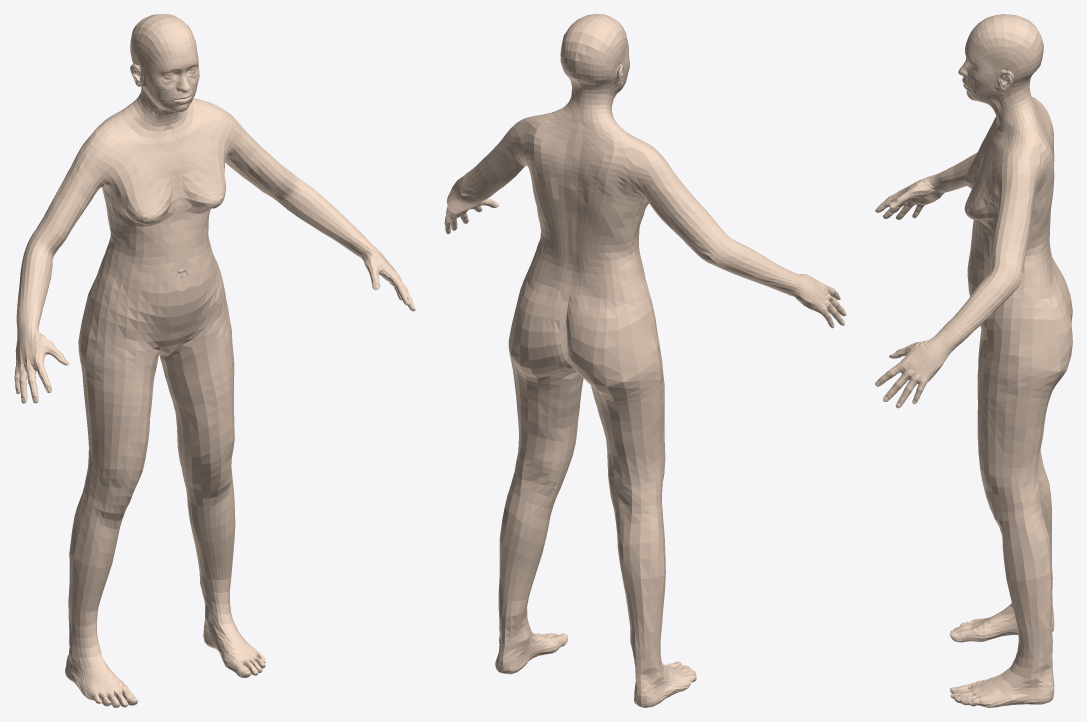
The model's file is female-older-heavy-medium.glb.
3 views of the same model, side by side, from view 1: azimuth 30°, elevation 25°; view 2: azimuth 150°, elevation 25°; view 3: azimuth 270°, elevation 25° (orthographic).
Parts seen in each view (by area): view 1: world; view 2: world; view 3: world.
Boxes of the visible parts, bbox=[...] form: world: bbox=[14, 14, 415, 707]; world: bbox=[444, 14, 846, 707]; world: bbox=[875, 14, 1072, 707].
Bounding box in the file's own units: 1.13 × 1.8 × 0.4966.
